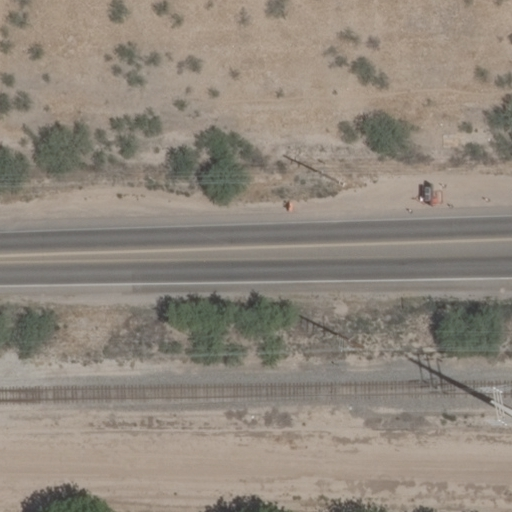DT: (482, 383, 512, 423), (335, 173, 351, 190)
